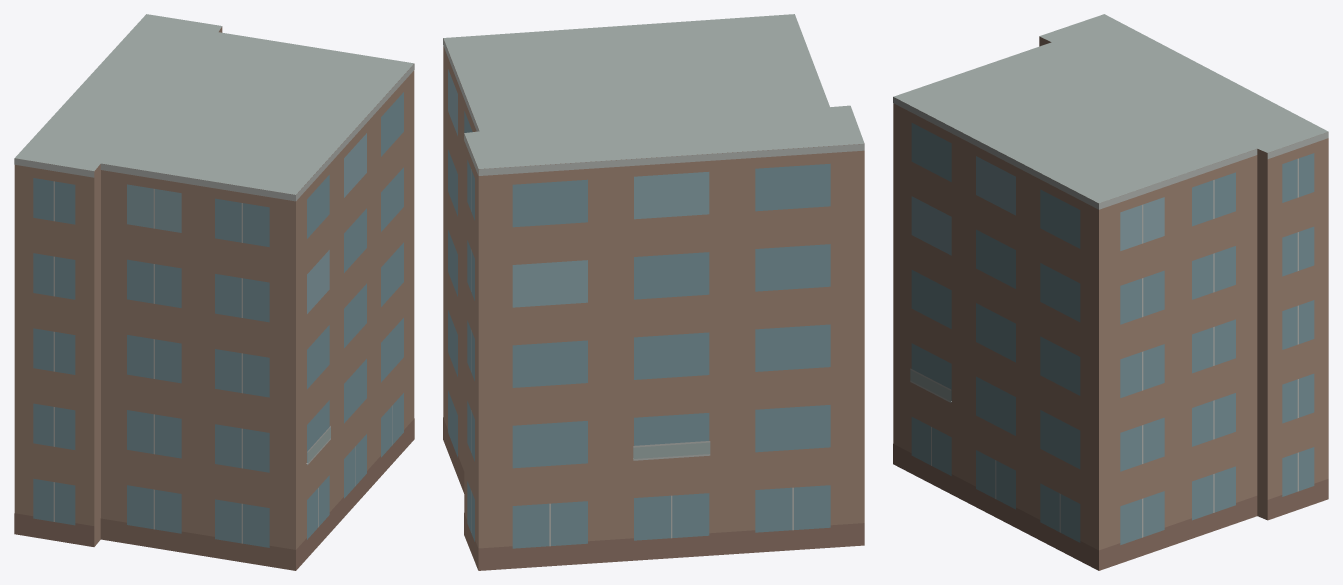
Rendered from survey-upis-32979256.glb.
3 renders of one model, left to right at view 1: azimuth 30°, elevation 25°; view 2: azimuth 150°, elevation 25°; view 3: azimuth 270°, elevation 25°, orthographic. The views are drawn at different scales.
Visible parts, largest first — view 1: survey-upis-32979256.tmp; view 2: survey-upis-32979256.tmp; view 3: survey-upis-32979256.tmp.
Boxes of the visible parts, left/top/right/bottom form: survey-upis-32979256.tmp: left=14, top=14, right=414, bottom=570; survey-upis-32979256.tmp: left=443, top=14, right=864, bottom=570; survey-upis-32979256.tmp: left=893, top=14, right=1328, bottom=570.
Bounding box in the file's own units: 15.6 × 14.1 × 15.15.
